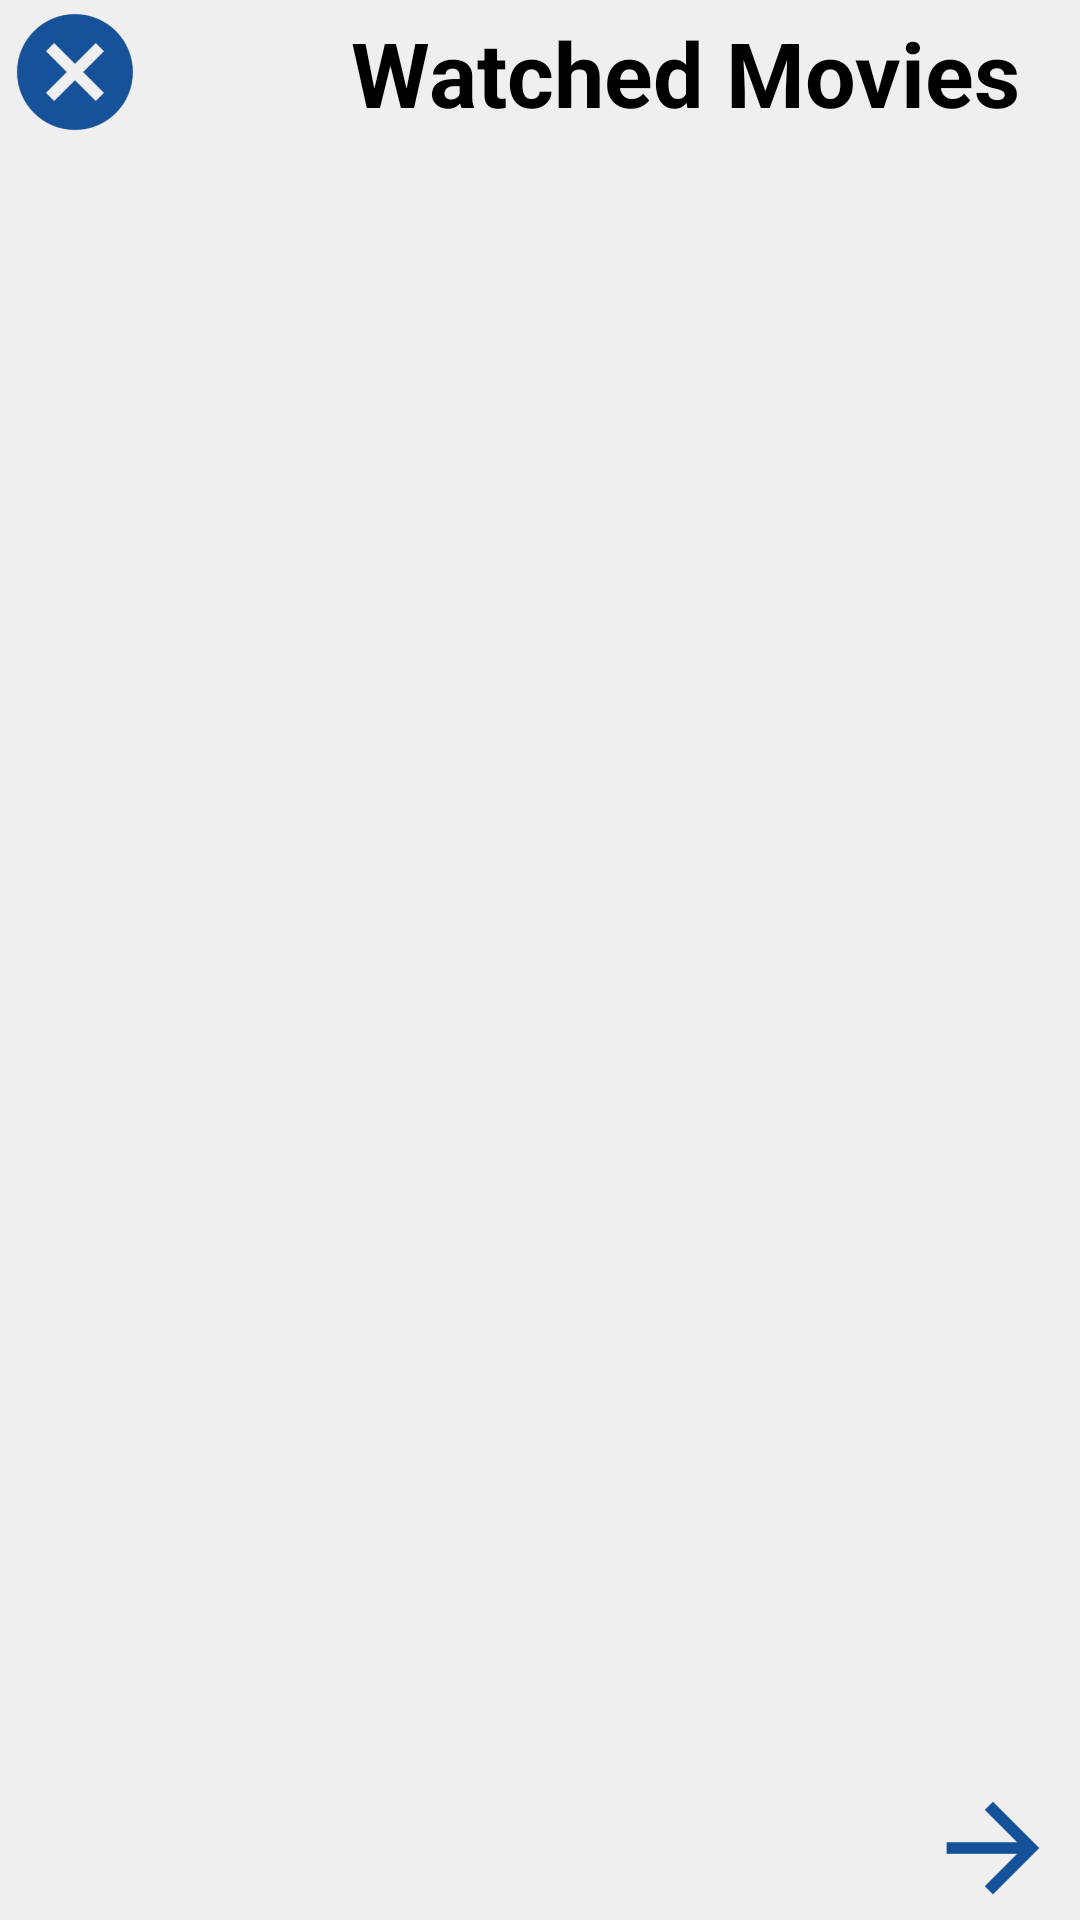

Screen size 1080*1920. Icon name, then its box in pixels as (x1=x1, y1=y1, x2=x2, y2=y2):
Exit watched movies: (x1=17, y1=14, x2=133, y2=130)
Next results: (x1=946, y1=1802, x2=1039, y2=1895)
